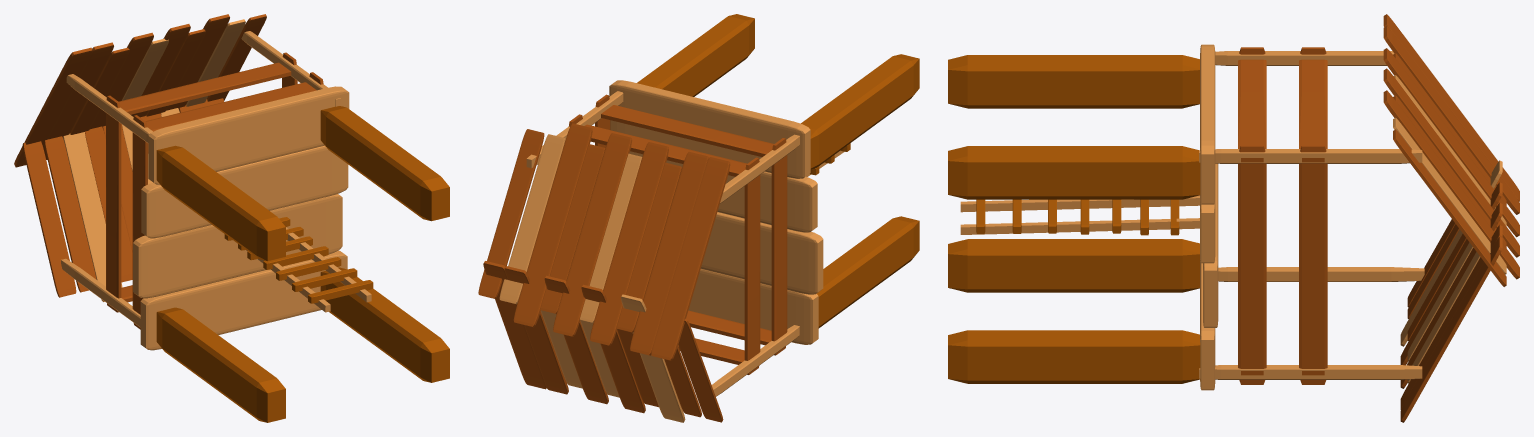
Rendered from woodenTower_g2.fbx.
3 renders of one model, left to right at view 1: azimuth 30°, elevation 25°; view 2: azimuth 150°, elevation 25°; view 3: azimuth 270°, elevation 25°, orthographic. The views are drawn at different scales.
Parts seen in each view (by area): view 1: WoodenTower_g2; view 2: WoodenTower_g2; view 3: WoodenTower_g2.
Part boxes in pixels (x1,y1,x2,y2): WoodenTower_g2: [14, 14, 449, 422]; WoodenTower_g2: [478, 14, 919, 422]; WoodenTower_g2: [948, 14, 1519, 422].
Size of the model in its own units: 649 by 378 by 317.
